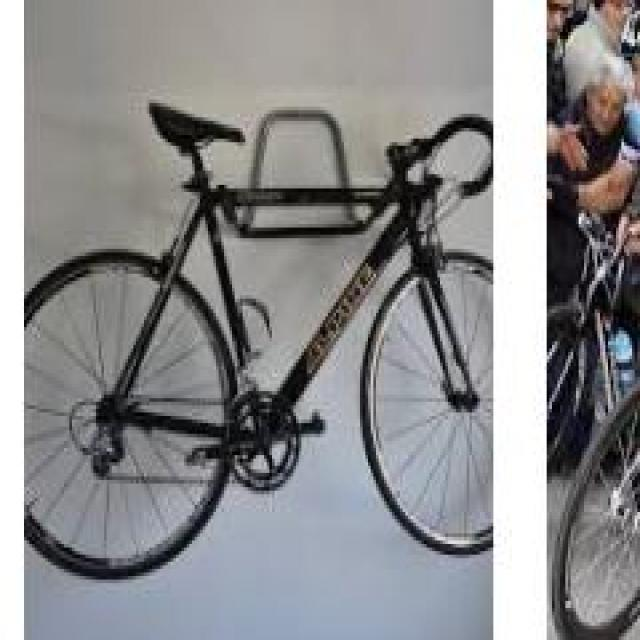bicycle: (31, 90, 503, 552), (555, 371, 640, 640)
